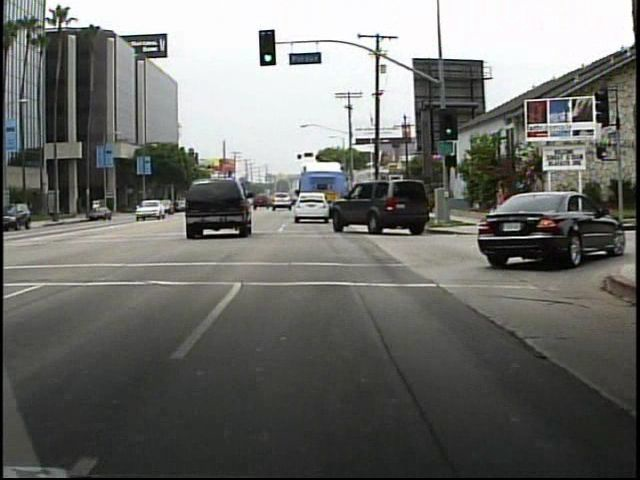person: (484, 175, 517, 238), (525, 171, 550, 227)
